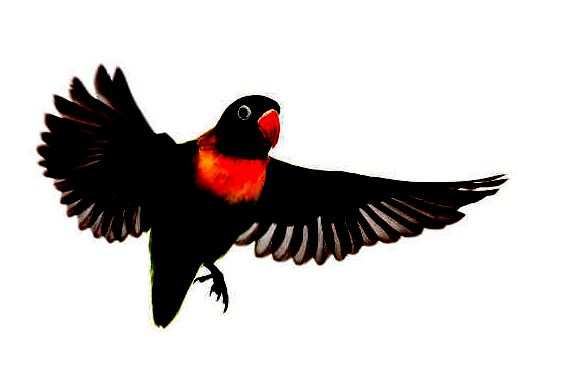Bird: (29, 58, 512, 333)
